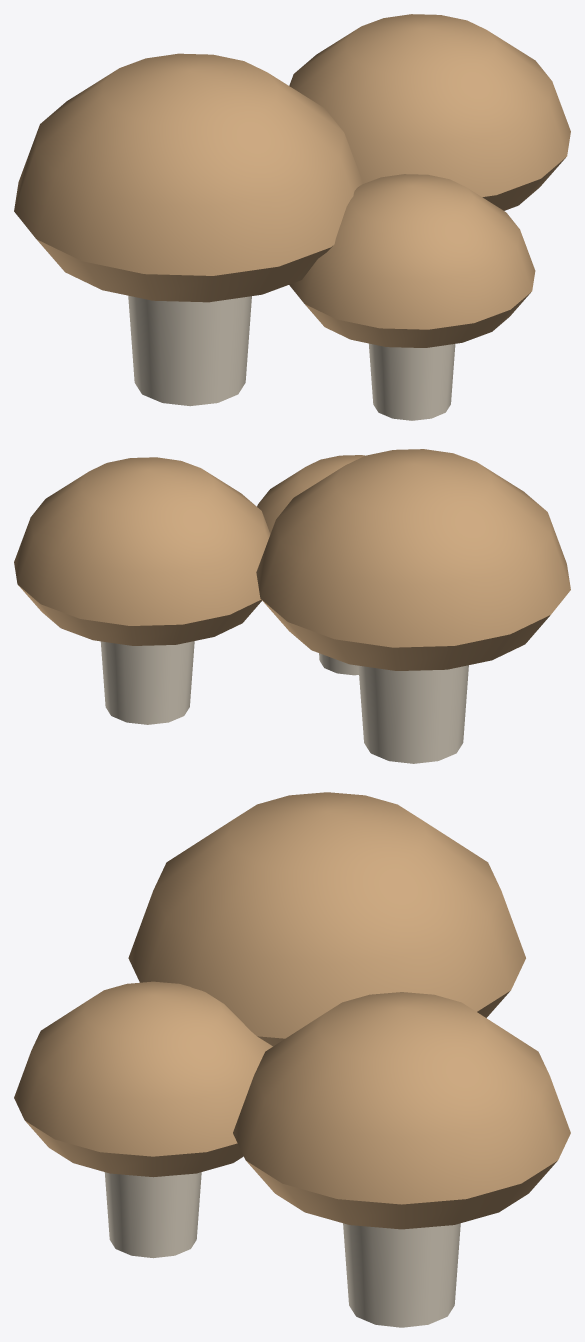
The model's file is Mushrooms.fbx.
3 views of the same model, one above another, from view 1: azimuth 30°, elevation 25°; view 2: azimuth 150°, elevation 25°; view 3: azimuth 270°, elevation 25° (orthographic). The views are drawn at different scales.
Parts seen in each view (by area): view 1: Mushrooms; view 2: Mushrooms; view 3: Mushrooms.
Boxes of the visible parts, x1,y1,x2,y2 form: Mushrooms: (14, 14, 570, 420); Mushrooms: (14, 449, 570, 763); Mushrooms: (14, 792, 570, 1327).
Size of the model in its own units: 0.1142 by 0.062 by 0.0896.
